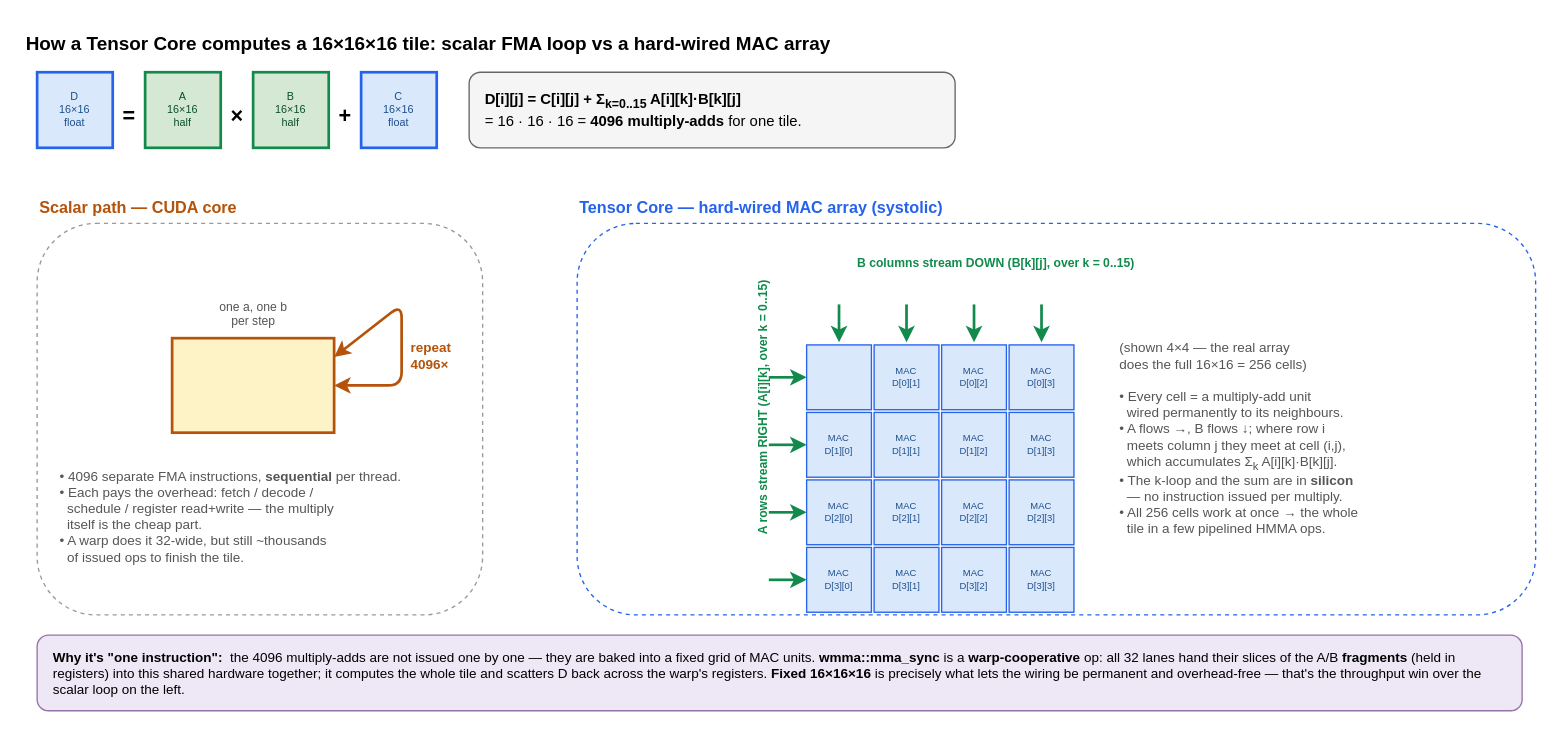
The diagram is 1559 pixels wide and 734 high, and some of its shapes have lost their labels. The box of each missing label's shape, as (x1, y1, x2, y2) in pixels:
1 MAC unit d = a·b + d: (170, 336, 335, 433)
MAC D[0][0]: (805, 344, 871, 410)
